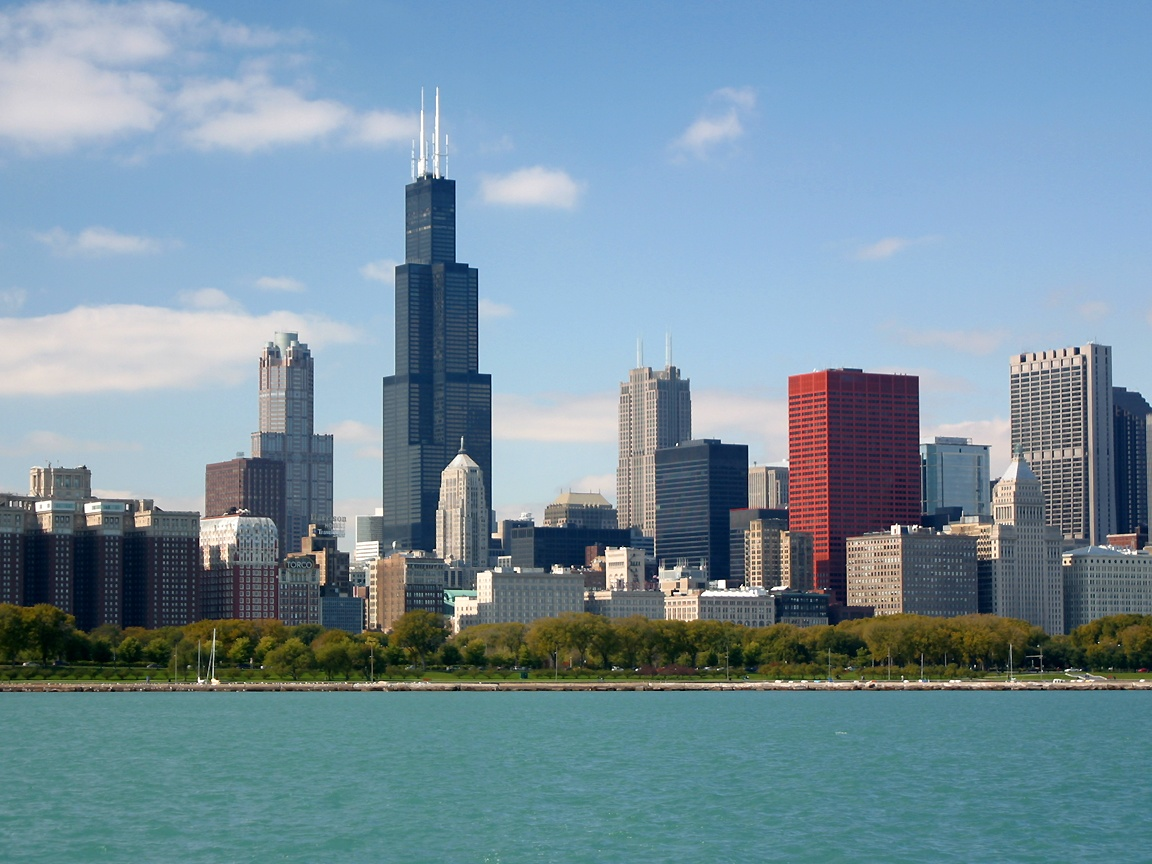building: (331, 70, 526, 671), (780, 364, 926, 641)
water: (13, 698, 1142, 864)
